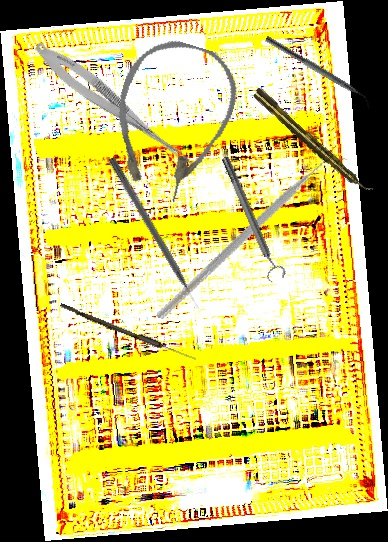Cannula: (95, 29, 248, 211)
Chopper: (155, 121, 351, 356), (260, 35, 376, 111)
Fixation Ring: (216, 152, 288, 285)
Handpiece: (250, 85, 374, 199)
Micro Scissor: (27, 36, 198, 170)
Pusher: (106, 156, 202, 312)
Surgical Spoon: (58, 303, 198, 362)
